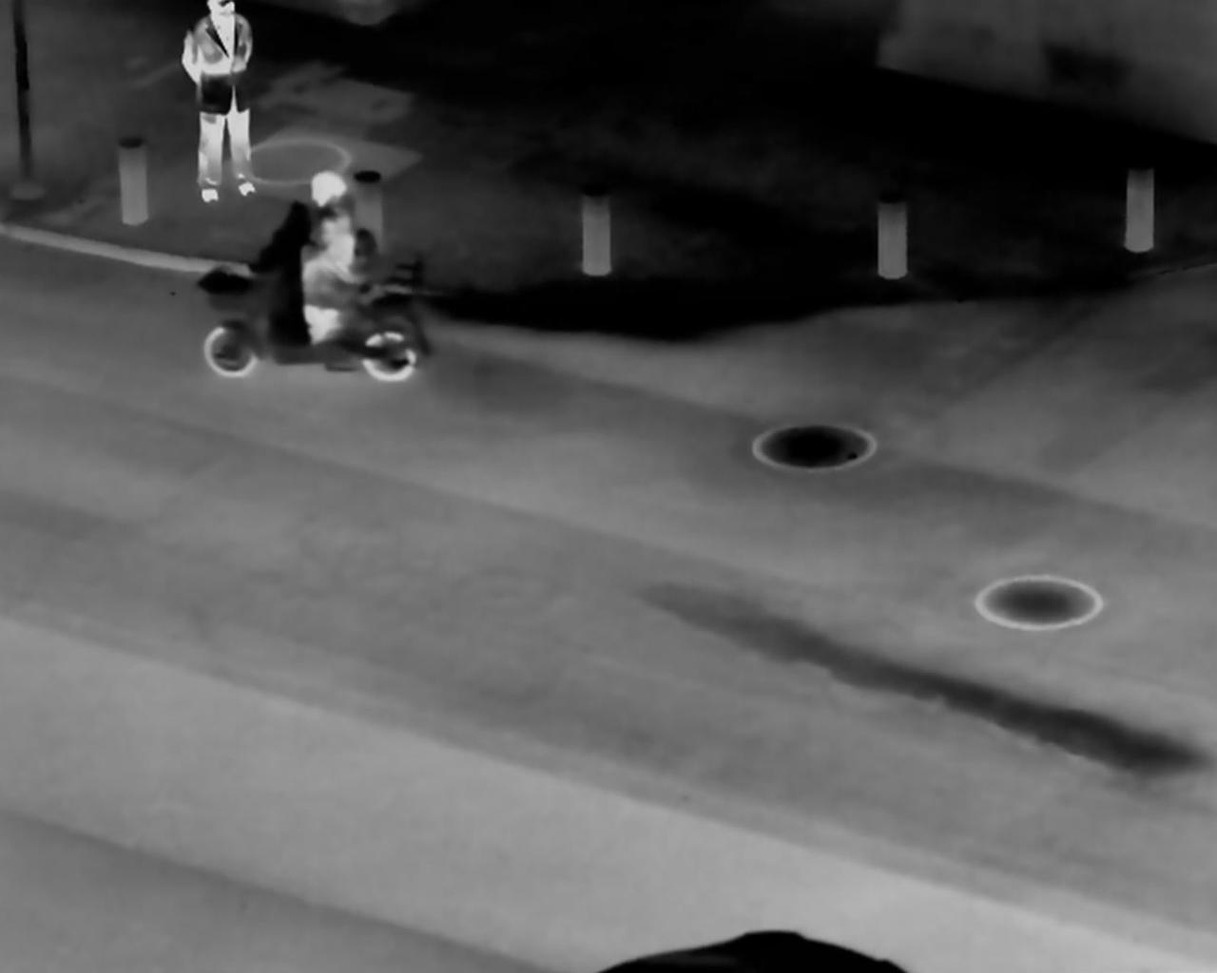person: (290, 166, 409, 356)
